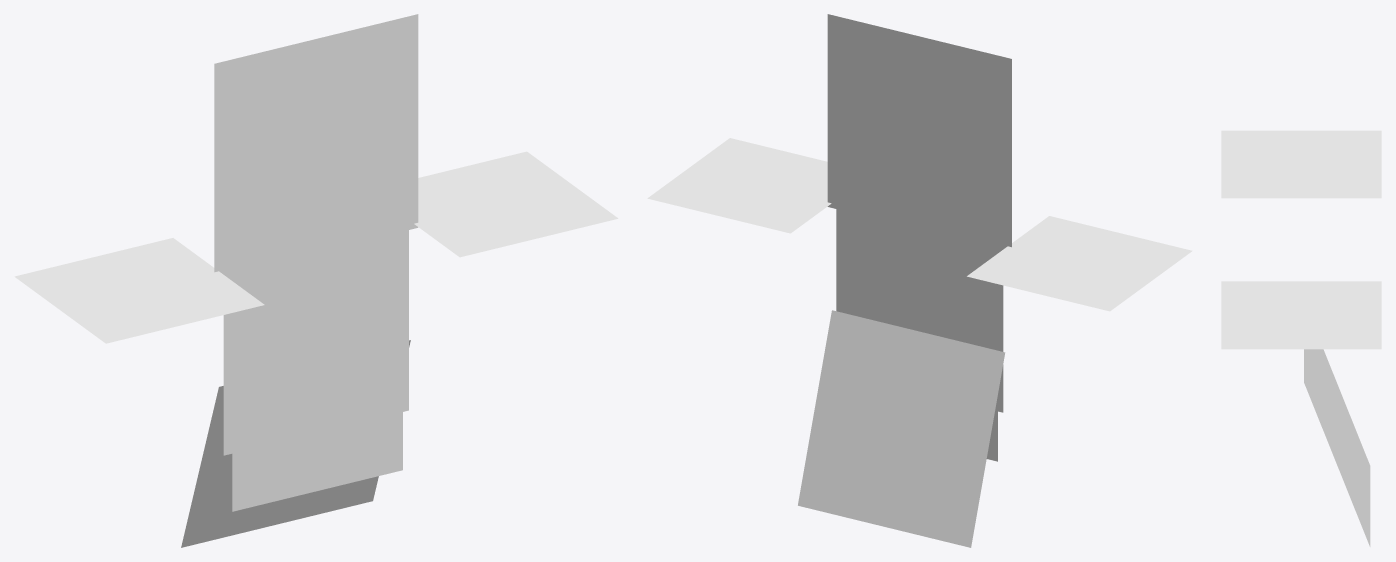
Rendered from RESO_Pera.glb.
3 renders of one model, left to right at view 1: azimuth 30°, elevation 25°; view 2: azimuth 150°, elevation 25°; view 3: azimuth 270°, elevation 25°, orthographic. The views are drawn at different scales.
Visible parts, largest first — view 1: Head_Front, Body_Front, RightHand_Back, LeftHand_Back, RightFoot_Front, Tail_Front, LeftFoot_Front; view 2: Tail_Back, Head_Back, Body_Back, RightHand_Back, LeftHand_Back; view 3: LeftHand_Back, RightHand_Back, Tail_Back.
Boxes of the visible parts, x1=… form: Head_Front: x1=214, y1=14, x2=418, y2=274; Body_Front: x1=223, y1=230, x2=408, y2=455; RightHand_Back: x1=14, y1=238, x2=264, y2=343; LeftHand_Back: x1=414, y1=151, x2=618, y2=257; RightFoot_Front: x1=232, y1=376, x2=337, y2=511; Tail_Front: x1=181, y1=340, x2=410, y2=547; LeftFoot_Front: x1=337, y1=360, x2=402, y2=485; Tail_Back: x1=798, y1=310, x2=1005, y2=547; Head_Back: x1=827, y1=14, x2=1011, y2=249; Body_Back: x1=836, y1=197, x2=1003, y2=412; RightHand_Back: x1=967, y1=216, x2=1192, y2=311; LeftHand_Back: x1=647, y1=138, x2=831, y2=233; LeftHand_Back: x1=1221, y1=281, x2=1381, y2=349; RightHand_Back: x1=1221, y1=130, x2=1381, y2=198; Tail_Back: x1=1304, y1=349, x2=1370, y2=546.
Bounding box in the file's own units: 99.99 × 95.85 × 31.
Materials: 14 (14 with a texture image).
